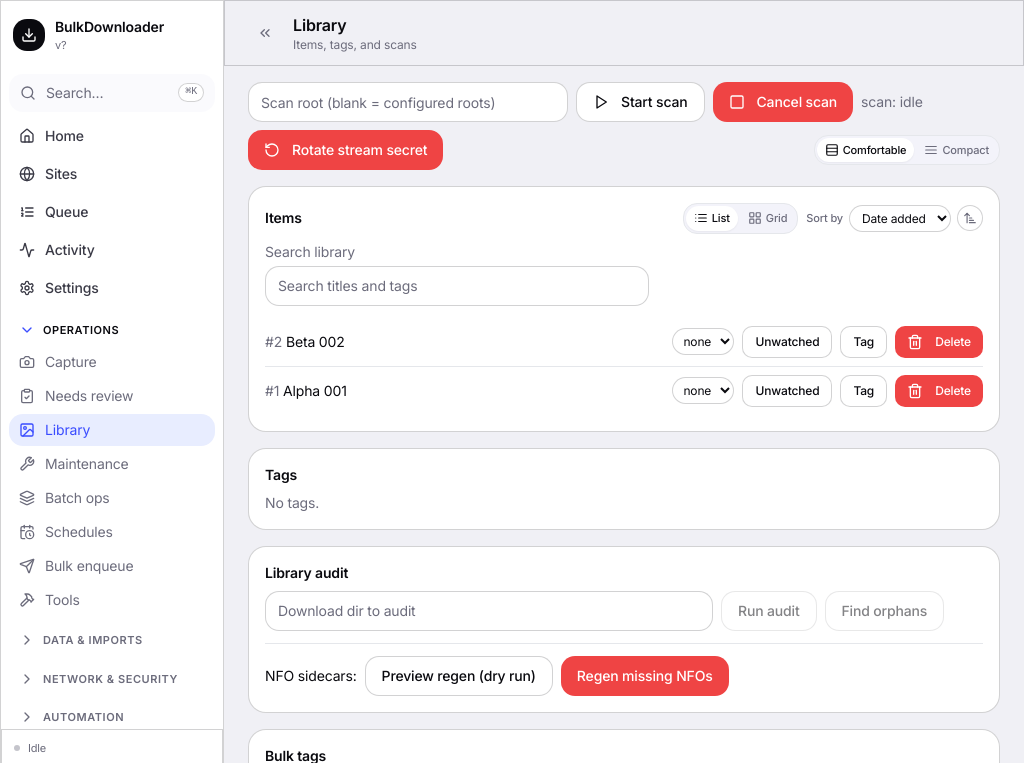
Test case: F019 Library grid/list toggle › keeps search and item preview working in grid view
This screenshot has width=1024, height=763.
Expected: the button "Beta 002" is shown, [286, 332, 345, 352]
Click the button "Grid".
click(768, 218)  # box [740, 206, 795, 230]
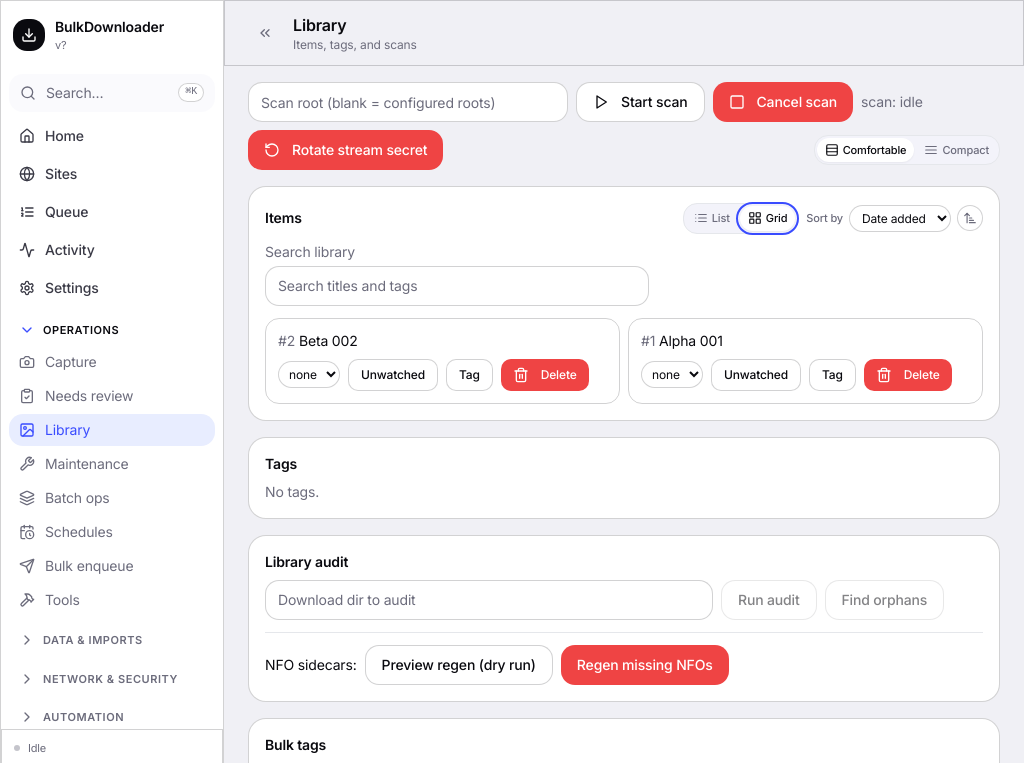
Type "alpha" into the search field labelled "Search library".
click(457, 286); type("alpha")  # box [265, 266, 649, 306]
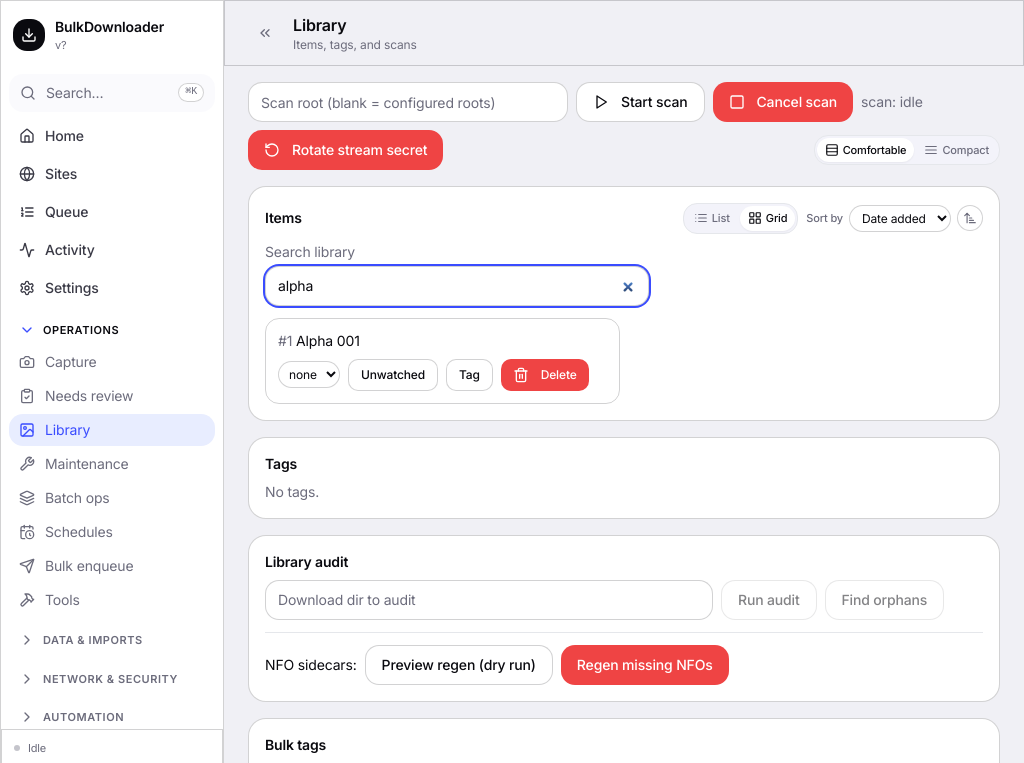
Expected: the number of list items is 1, [265, 318, 620, 404]
Click the button "Alpha 001".
click(328, 340)  # box [296, 330, 360, 350]
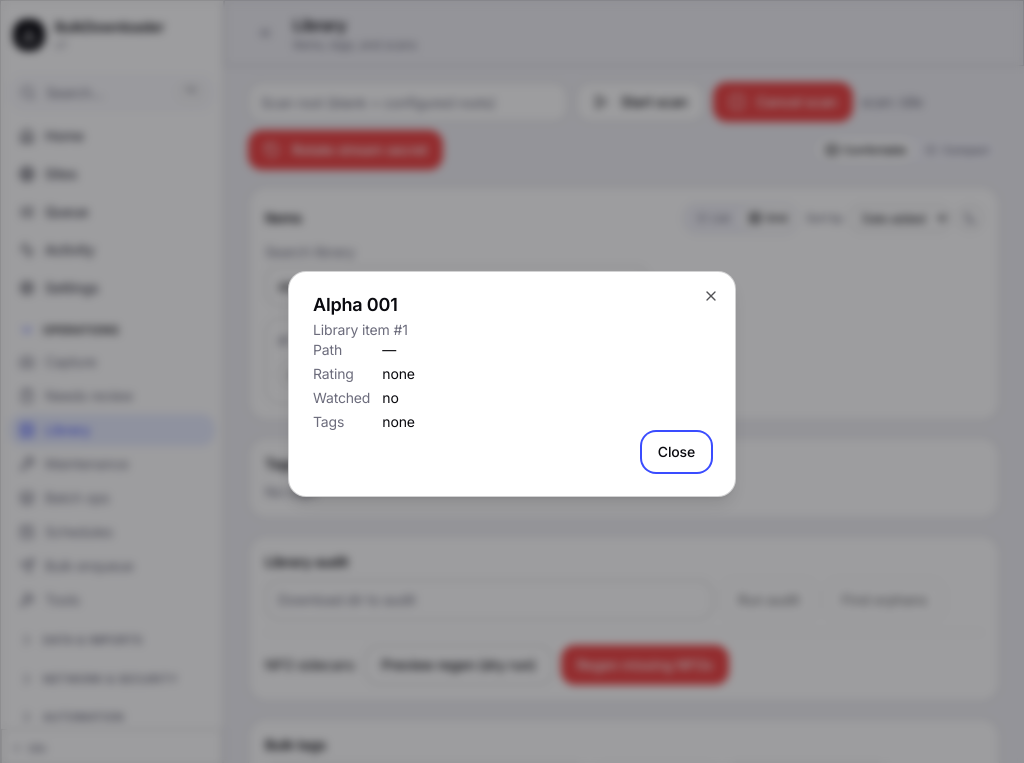
Expected: the text "Library item #1" is shown, [313, 321, 408, 338]
